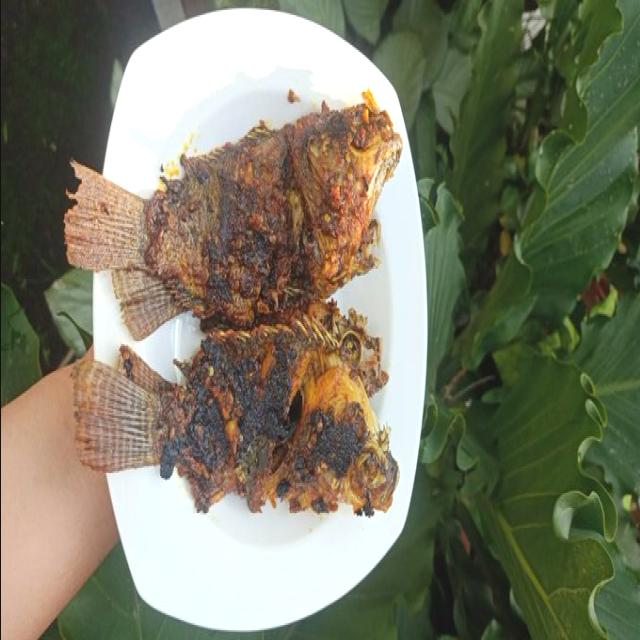ikan bakar: (60, 95, 401, 341), (72, 306, 395, 520)
